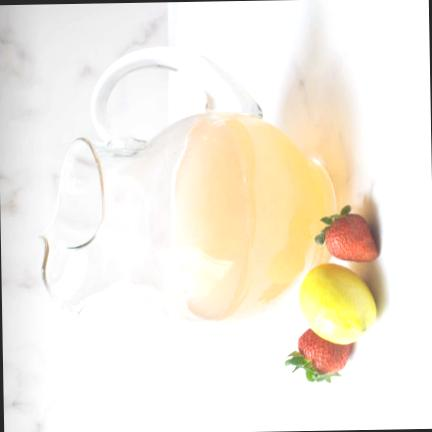container: (42, 110, 340, 322)
fluid: (214, 111, 332, 324)
fluid-surface: (173, 113, 246, 320)
